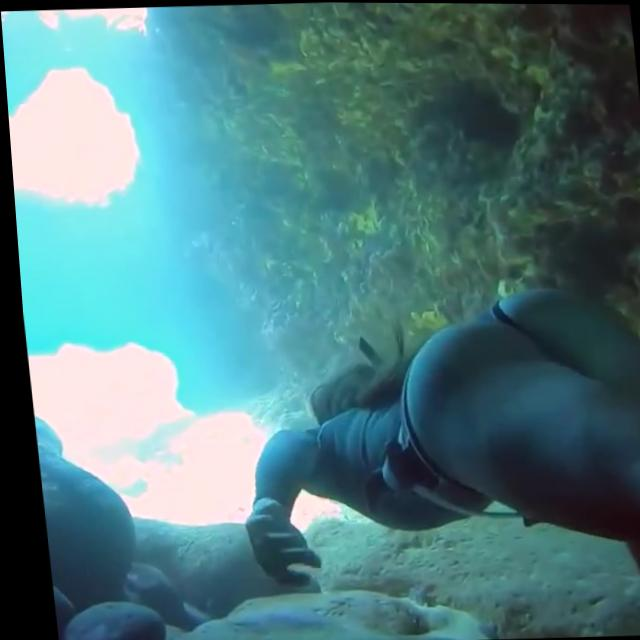human: (205, 270, 640, 640)
